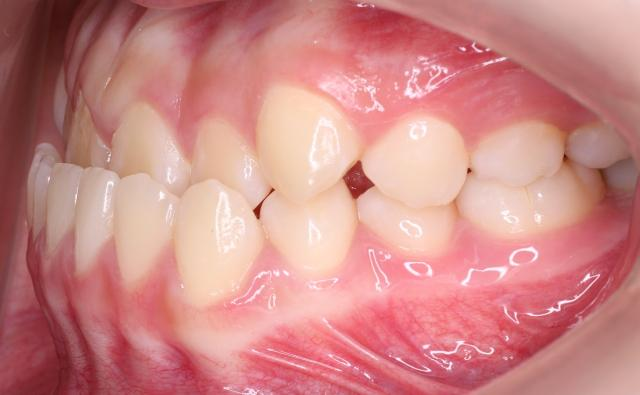canine class III 1/4: (174, 70, 366, 320)
